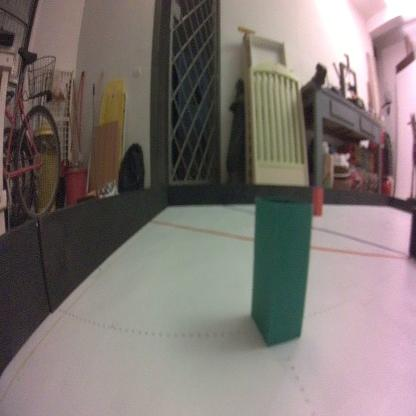green: (249, 192, 313, 348)
red: (311, 187, 324, 218)
